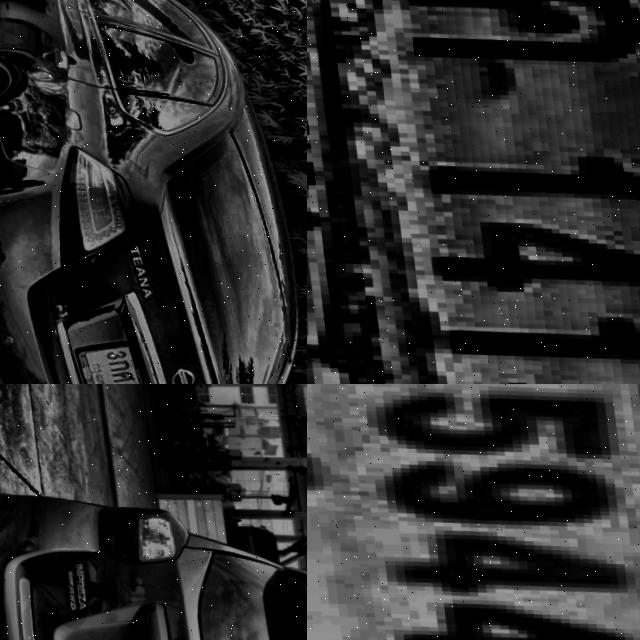license-plate: (307, 0, 640, 384), (307, 384, 640, 640), (62, 331, 145, 384)
